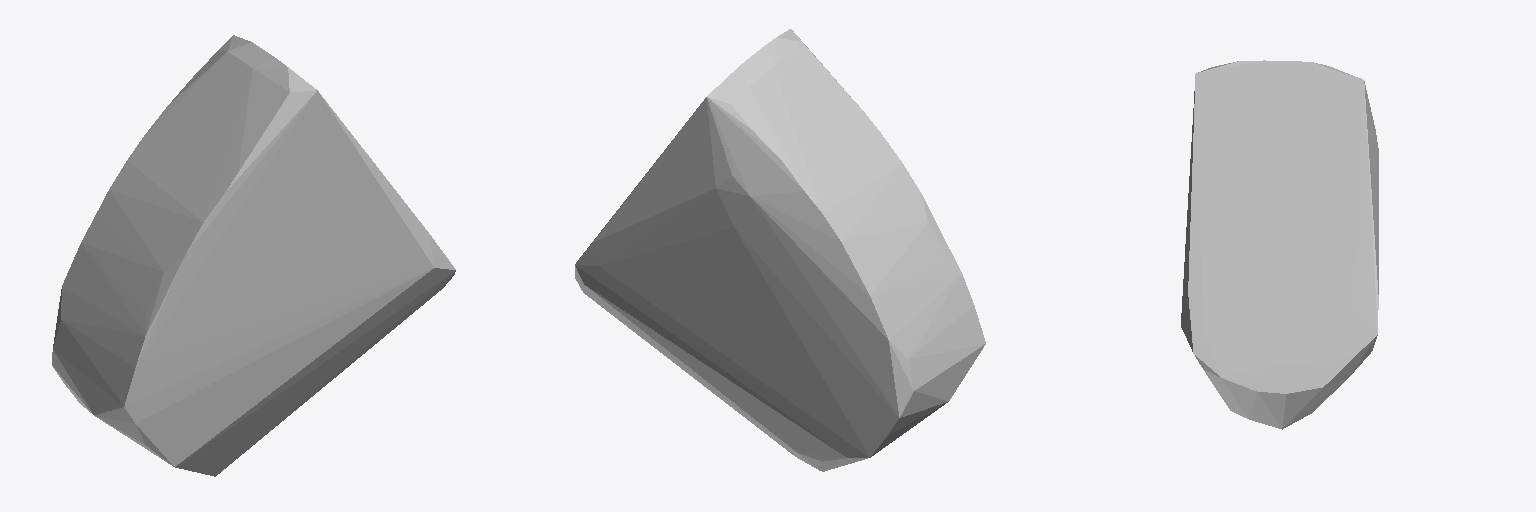
Rendered from bottom_mesh_300.obj.
The picture shows the model from 3 angles: view 1: azimuth 30°, elevation 25°; view 2: azimuth 150°, elevation 25°; view 3: azimuth 270°, elevation 25°; orthographic projection.
Size of the model in its own units: 207 by 227 by 101.